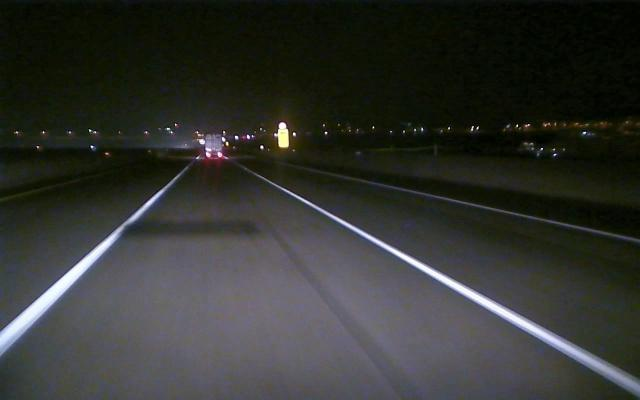lane: (269, 180, 637, 393), (2, 188, 164, 354), (359, 178, 640, 243)
